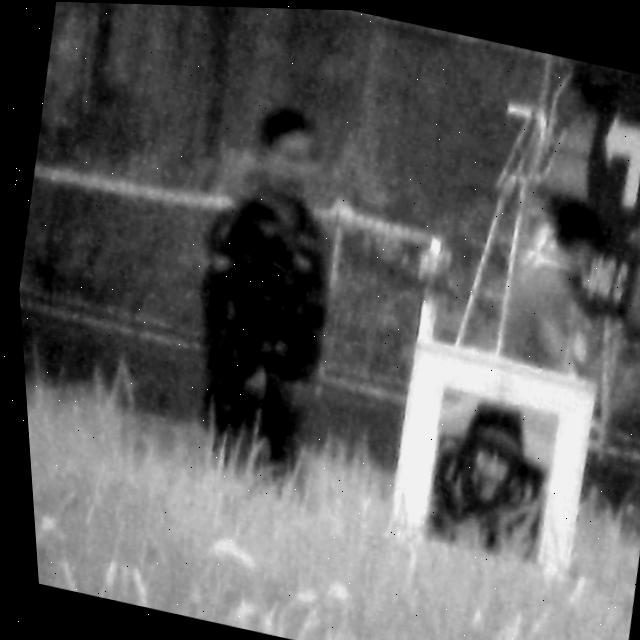bia: (416, 386, 553, 562)
